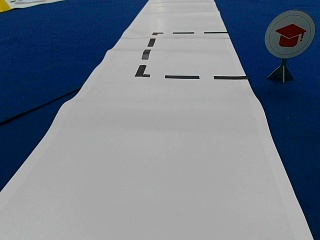school: (265, 10, 314, 57)
